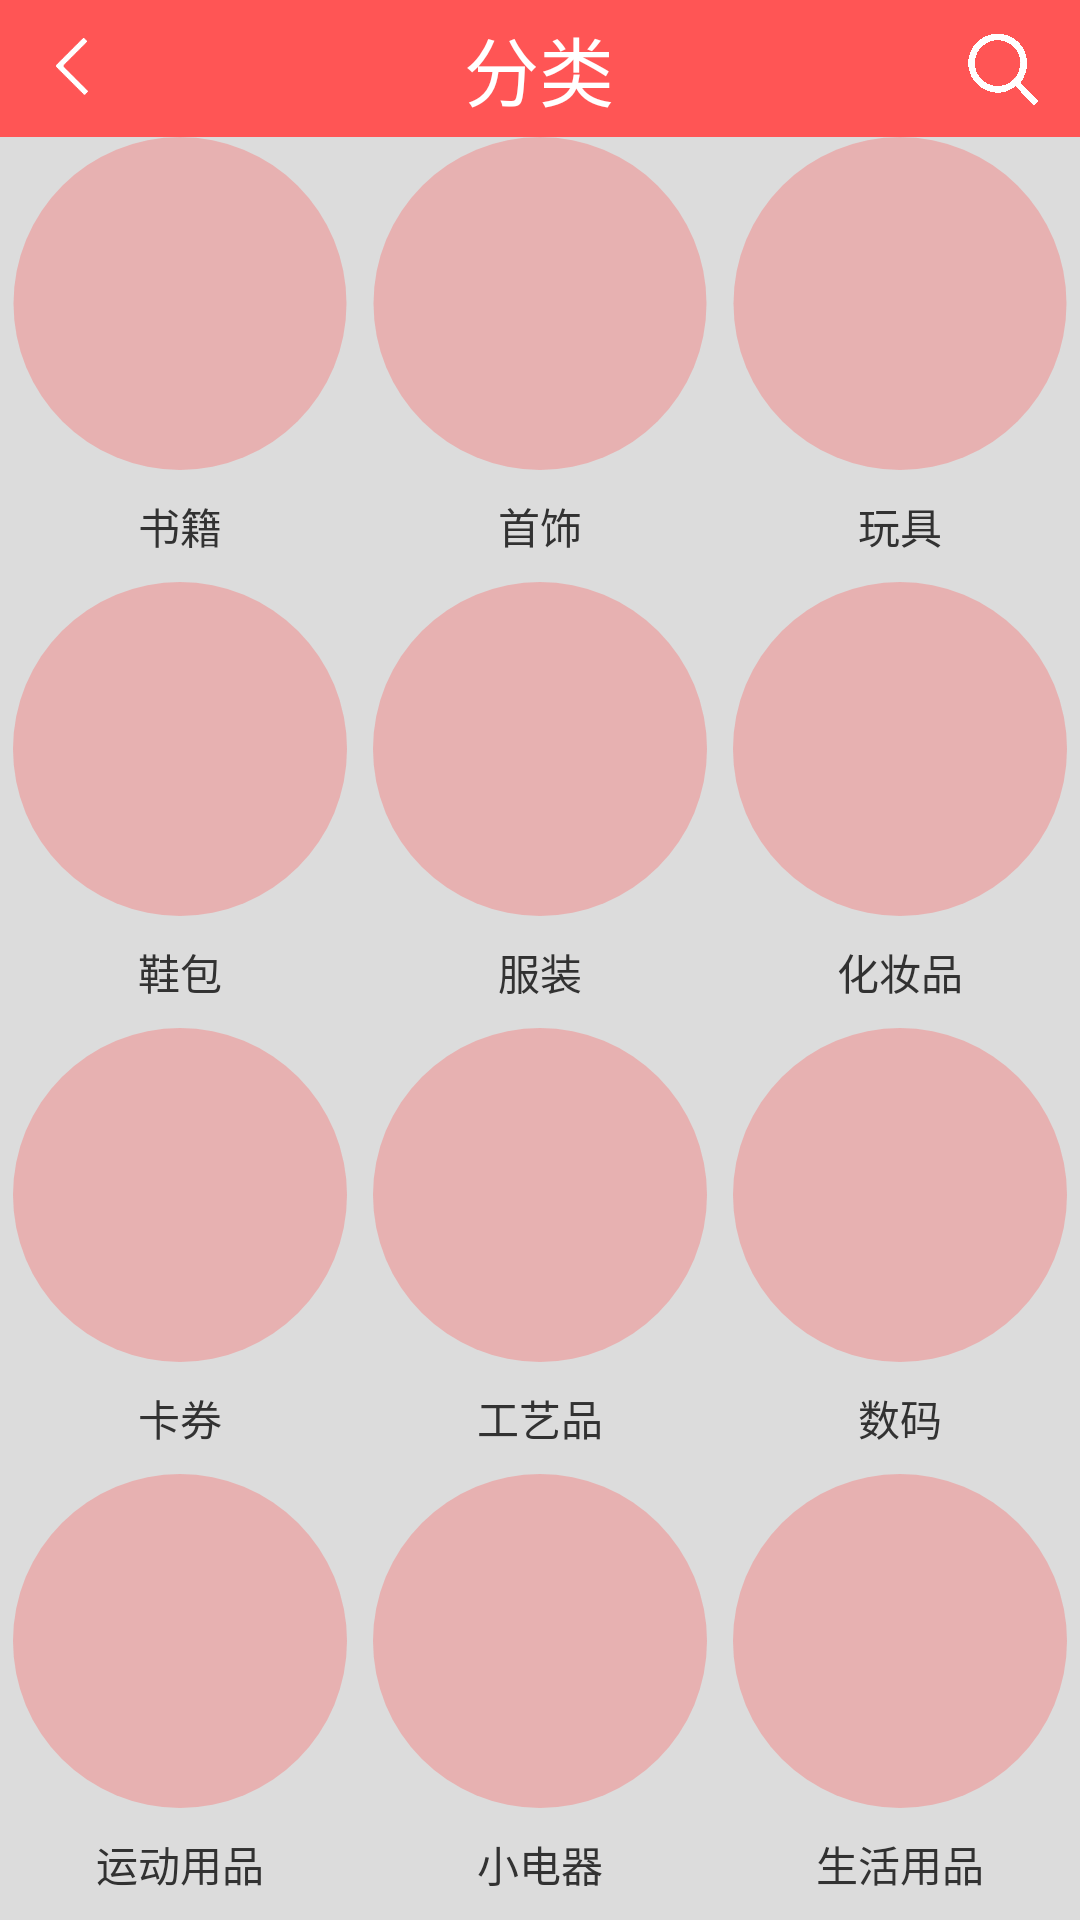

Point at icon controls on the screen. Image size 1080x1920, points as (x=x, y=y).
jiantou left: (x=72, y=66)
search: (x=1003, y=69)
